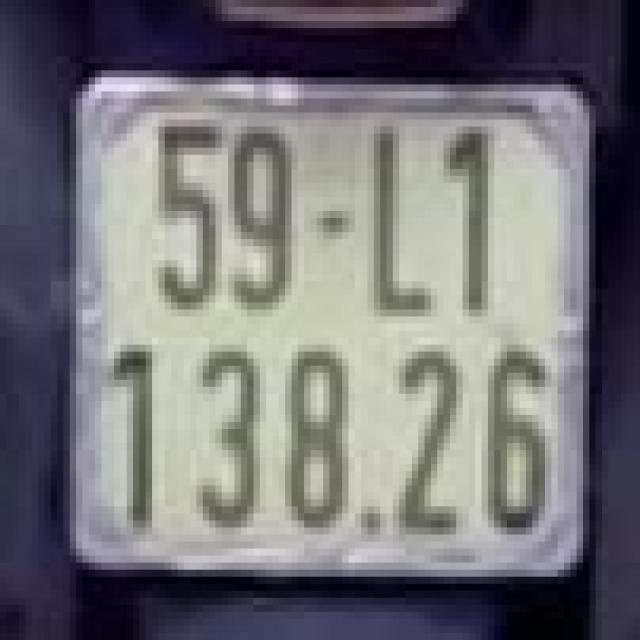1: (101, 341, 171, 552), (446, 120, 504, 323)
2: (393, 338, 475, 542)
3: (184, 341, 266, 538)
5: (146, 112, 228, 316)
6: (485, 344, 561, 548)
8: (276, 338, 352, 542)
9: (225, 112, 307, 316)
L: (358, 120, 440, 316)
